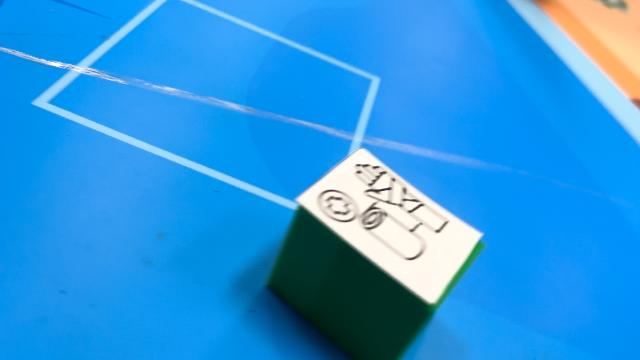bandage: (266, 147, 487, 359)
